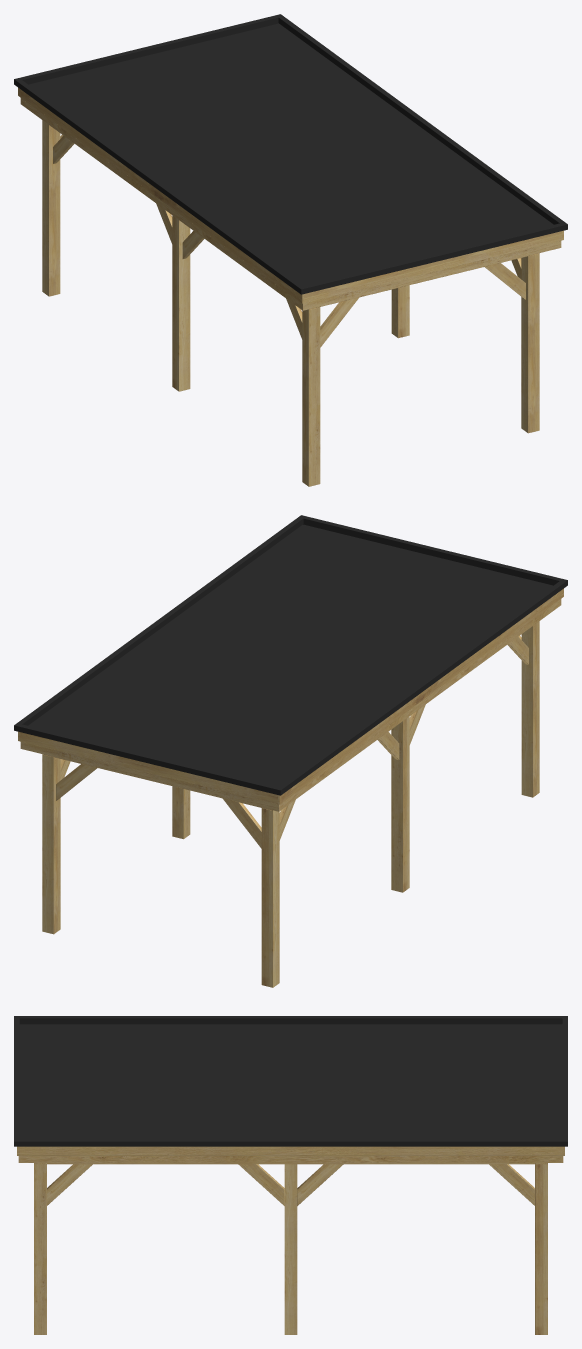
3 renders of one model, top to bottom at view 1: azimuth 30°, elevation 25°; view 2: azimuth 150°, elevation 25°; view 3: azimuth 270°, elevation 25°, orthographic. The views are drawn at different scales.
Visible parts, largest first — view 1: Wertical Bim027; view 2: Wertical Bim027; view 3: Wertical Bim027.
Part boxes in pixels (box(x1,y1,x2,y2)): Wertical Bim027: box(14, 14, 567, 486); Wertical Bim027: box(14, 515, 567, 987); Wertical Bim027: box(14, 1016, 567, 1334).
Size of the model in its own units: 3.47 by 2.6 by 6.47.
Materials: 3 (1 with a texture image).
